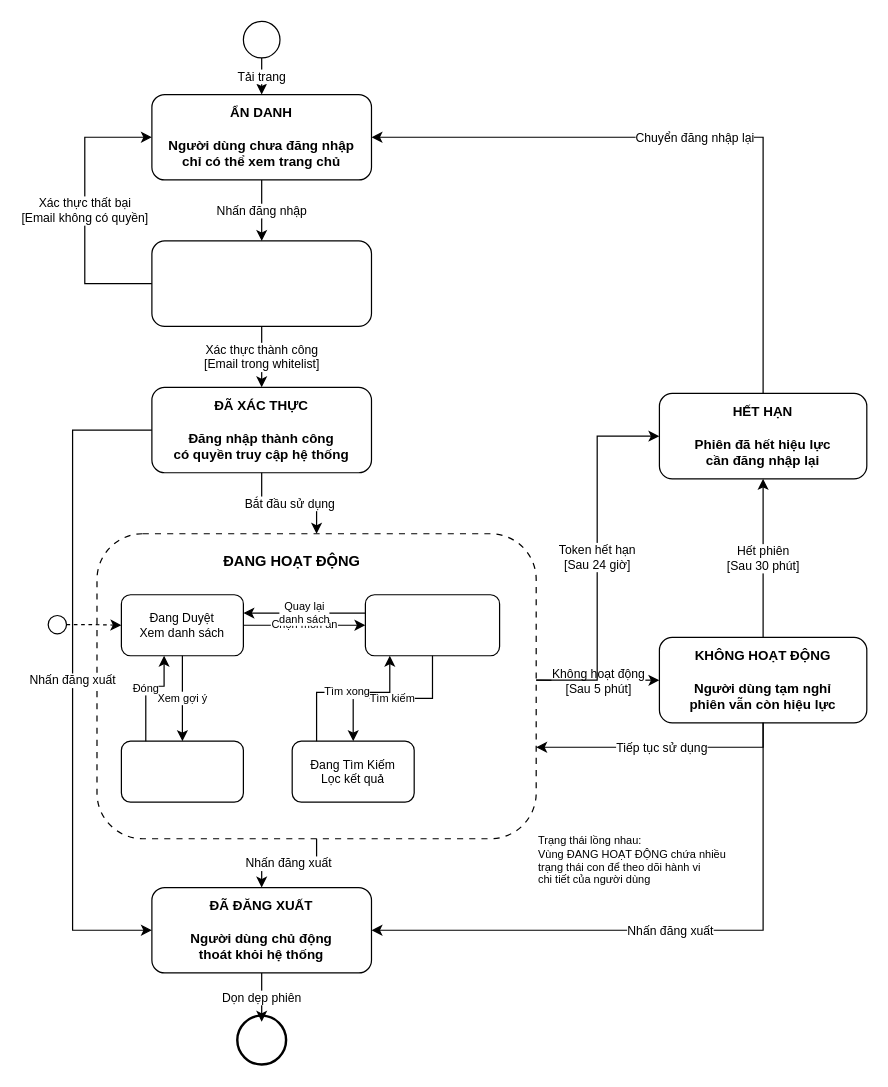
Image size: 888x1087. Some labels were removed from this diagram. The centre of each missing label's shape, as x and y in pixels:
Xem Gợi Ý Nhận đề xuất AI: (x=181, y=771)
Đang Tương Tác Thao tác với item: (x=432, y=625)
ĐANG XÁC THỰC Đang chờ Google OAuth xác nhận danh tính: (x=261, y=283)
